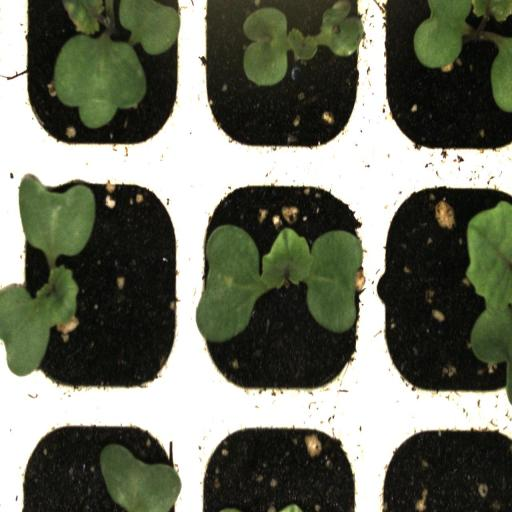Folha: (466, 200, 512, 397), (100, 444, 181, 512)
Germinacao: (12, 163, 194, 408), (194, 169, 378, 409), (14, 0, 198, 163), (199, 0, 378, 163), (384, 0, 512, 164)
